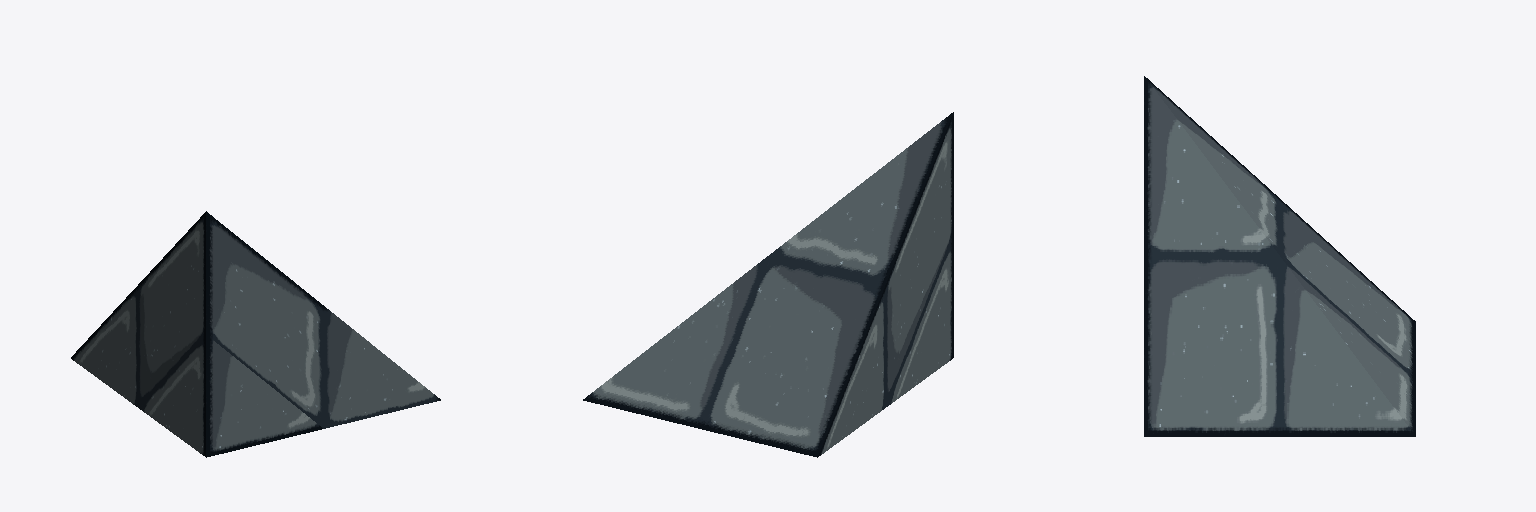
3 views of the same model, side by side, from view 1: azimuth 30°, elevation 25°; view 2: azimuth 150°, elevation 25°; view 3: azimuth 270°, elevation 25° (orthographic).
Parts seen in each view (by area): view 1: 5_stone; view 2: 5_stone; view 3: 5_stone.
Boxes of the visible parts, box(x1,y1,x2,y2) form: 5_stone: box(71, 211, 440, 457); 5_stone: box(583, 112, 953, 457); 5_stone: box(1144, 76, 1415, 436).
Bounding box in the file's own units: 1 × 1 × 1.
1 materials, 1 textured.